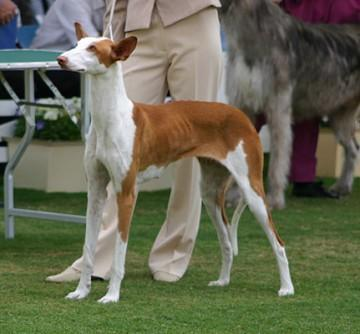Ibizan_hound: (54, 18, 293, 303)
